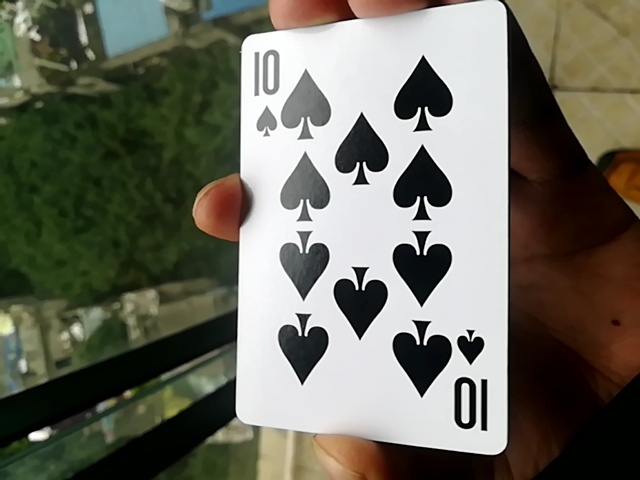ht 10: (241, 0, 495, 459)
